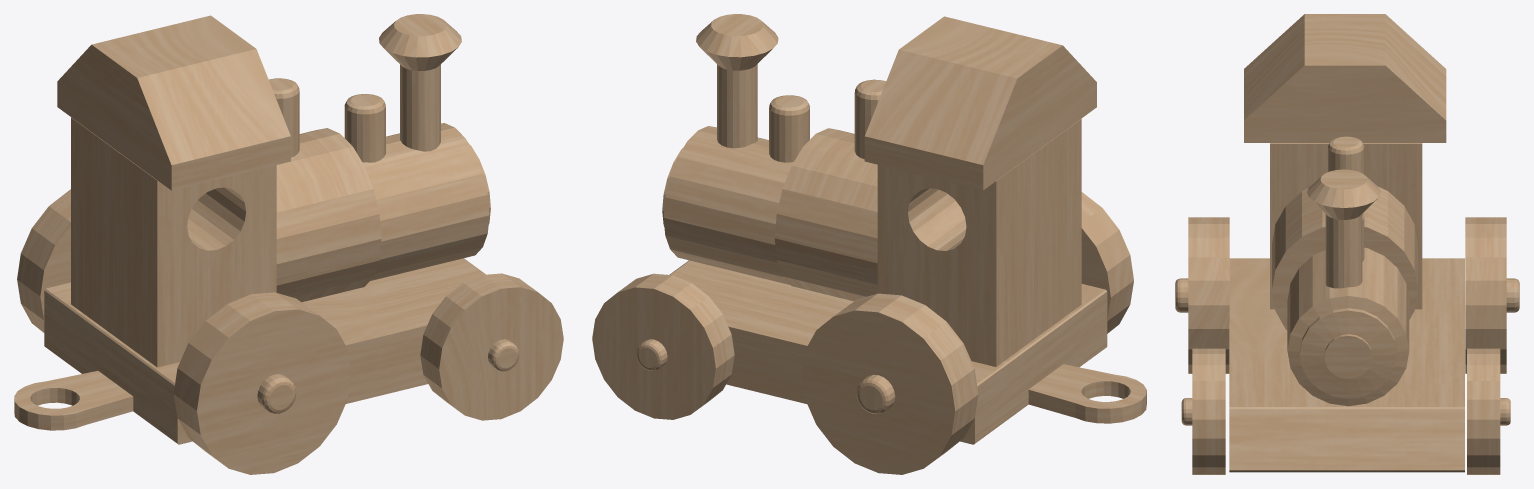
The model's file is tremfrente.fbx.
3 renders of one model, left to right at view 1: azimuth 30°, elevation 25°; view 2: azimuth 150°, elevation 25°; view 3: azimuth 270°, elevation 25°, orthographic. The views are drawn at different scales.
Parts seen in each view (by area): view 1: train; view 2: train; view 3: train.
Boxes of the visible parts, x1,y1,x2,y2 form: train: (14,14,563,474); train: (592,14,1146,474); train: (1175,14,1519,474).
Bounding box in the file's own units: 3.97 × 2.95 × 2.83.
